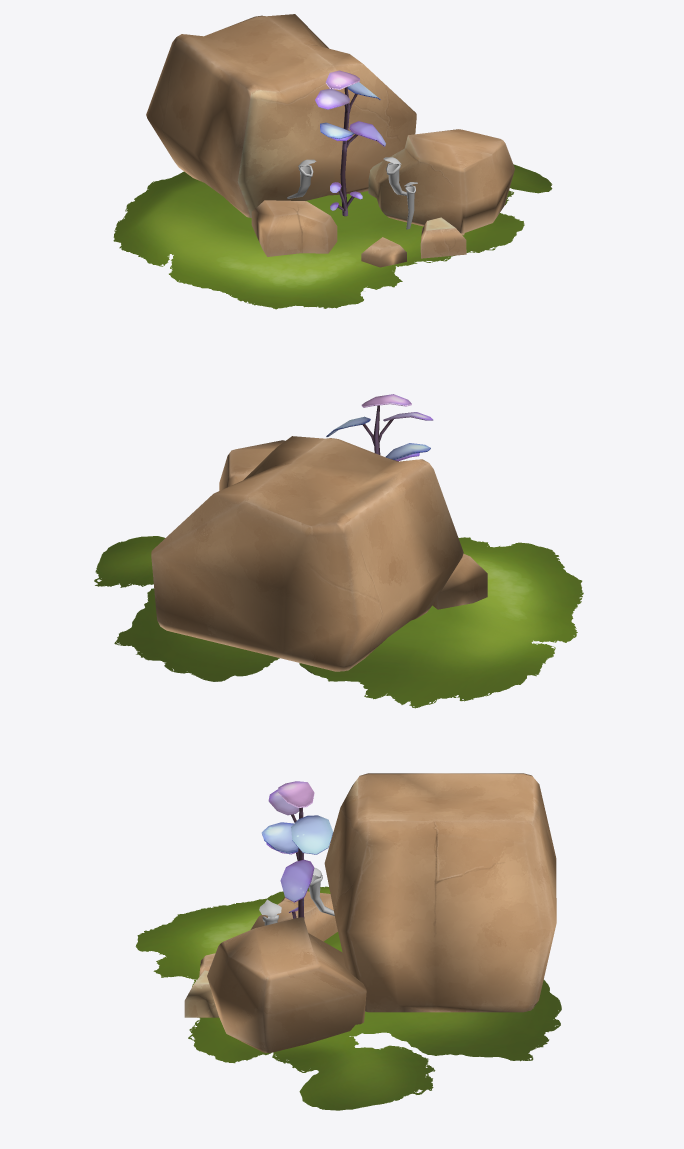
The model's file is Vegetation_Group_1.fbx.
The picture shows the model from 3 angles, top to bottom: view 1: azimuth 30°, elevation 25°; view 2: azimuth 150°, elevation 25°; view 3: azimuth 270°, elevation 25°; orthographic projection. The views are drawn at different scales.
Visible parts, largest first — view 1: MS_Remains, Moss_Plane, MS_TallPlant; view 2: MS_Remains, Moss_Plane, MS_TallPlant; view 3: MS_Remains, Moss_Plane, MS_TallPlant.
Boxes of the visible parts, box(x1,y1,x2,y2) form: MS_Remains: box(146, 14, 514, 267); Moss_Plane: box(113, 164, 552, 309); MS_TallPlant: box(315, 70, 385, 216); MS_Remains: box(151, 436, 487, 671); Moss_Plane: box(94, 536, 583, 708); MS_TallPlant: box(326, 394, 433, 461); MS_Remains: box(184, 773, 556, 1053); Moss_Plane: box(135, 886, 561, 1110); MS_TallPlant: box(261, 781, 333, 918).
Size of the model in its own units: 10.42 by 3.48 by 10.42.
